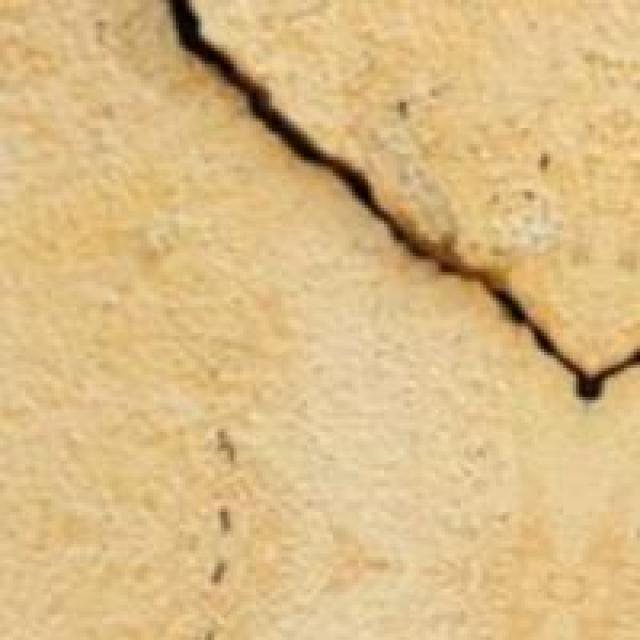crack: (163, 0, 637, 419)
